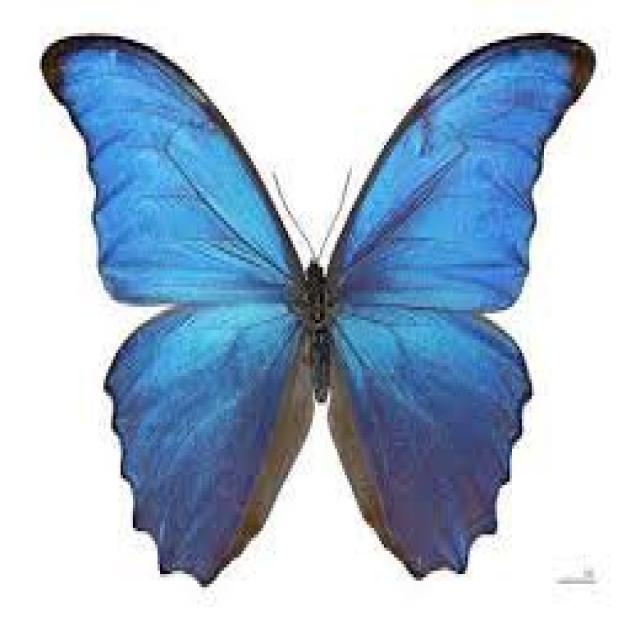butterfly: (70, 57, 558, 562)
